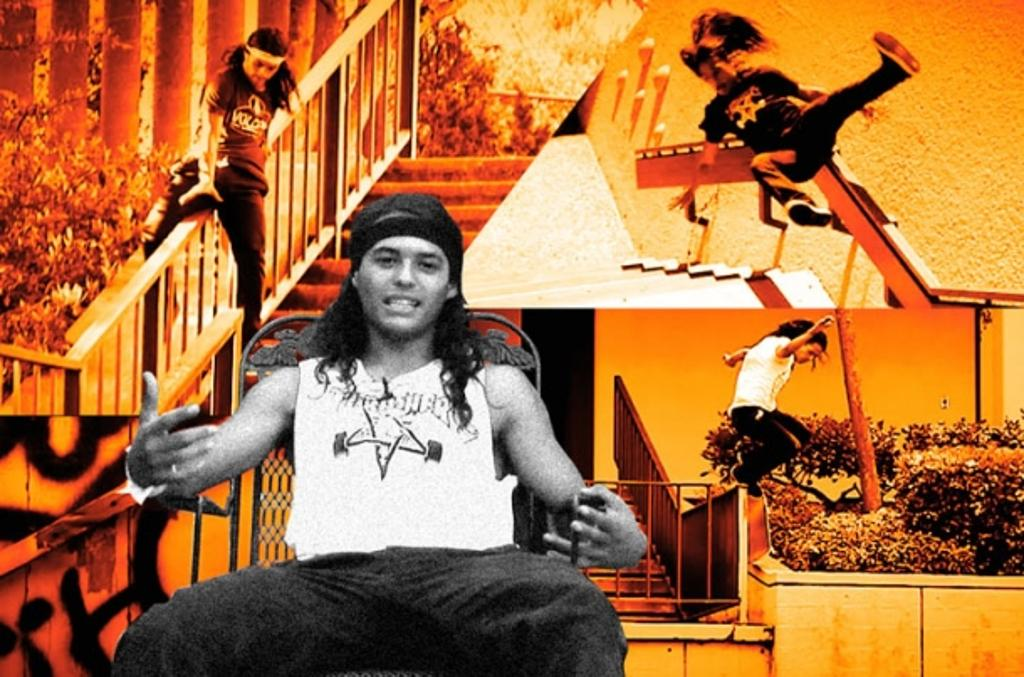face: (358, 235, 449, 334), (699, 60, 735, 95), (246, 51, 279, 85), (793, 340, 822, 363)
